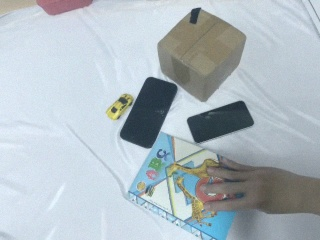book: (120, 130, 277, 240)
box: (157, 6, 246, 103)
phone: (118, 76, 179, 149), (187, 101, 254, 144)
toy_car: (105, 93, 133, 121)
